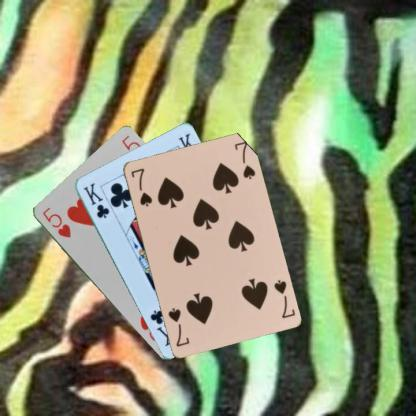5h: (40, 205, 72, 239)
7s: (271, 276, 296, 320), (128, 165, 153, 208)
Kc: (80, 180, 110, 220)
